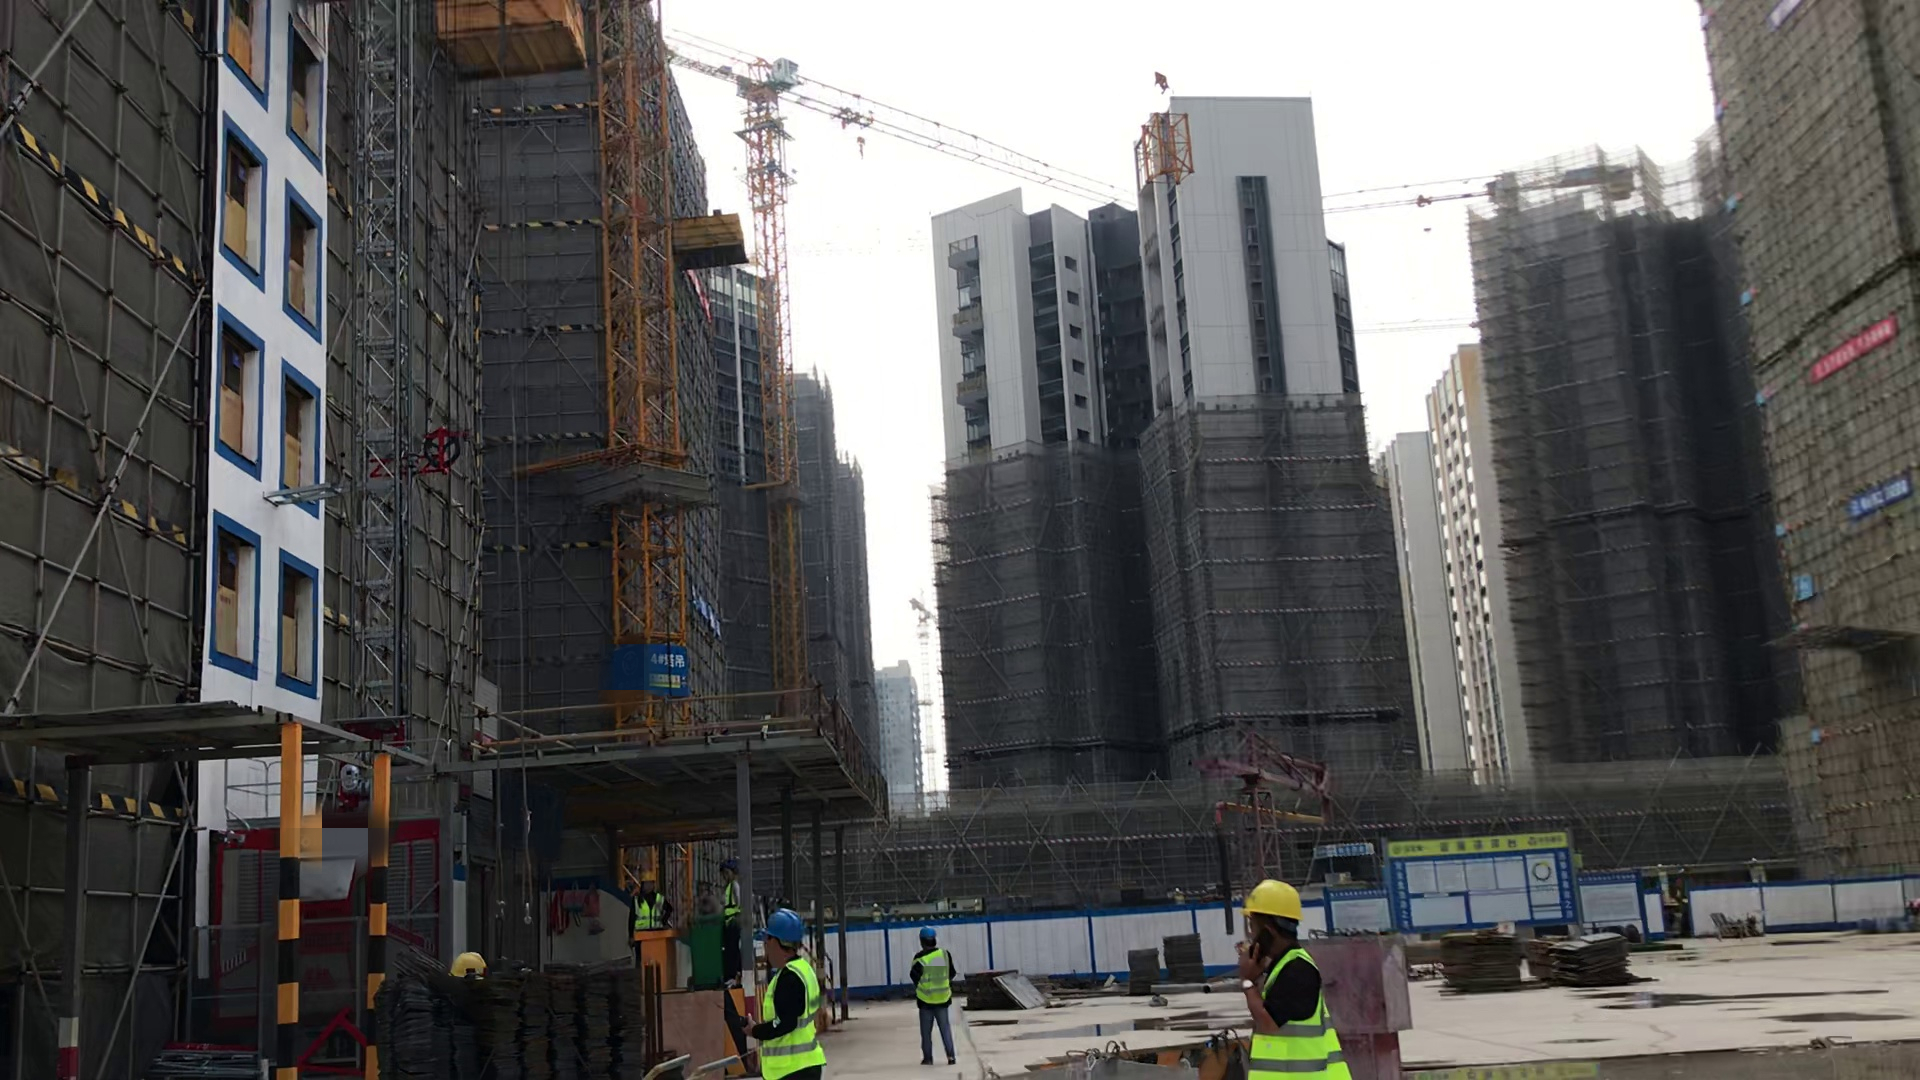board: (1443, 929, 1524, 991), (1548, 937, 1639, 987), (965, 967, 1028, 1019), (1163, 931, 1210, 985), (1120, 942, 1169, 991)
helmet: (1242, 877, 1305, 917), (756, 907, 809, 946), (446, 947, 494, 979), (639, 866, 657, 886), (723, 858, 740, 876), (918, 924, 937, 939)
person: (1228, 864, 1368, 1080), (747, 898, 834, 1080), (907, 920, 966, 1070), (624, 865, 668, 933), (721, 852, 747, 974)
slogan: (1794, 300, 1916, 406), (1836, 466, 1920, 531), (670, 582, 744, 648)
vest: (1250, 947, 1352, 1080), (762, 958, 826, 1080), (912, 947, 953, 1010), (635, 890, 666, 931), (723, 877, 743, 932)
